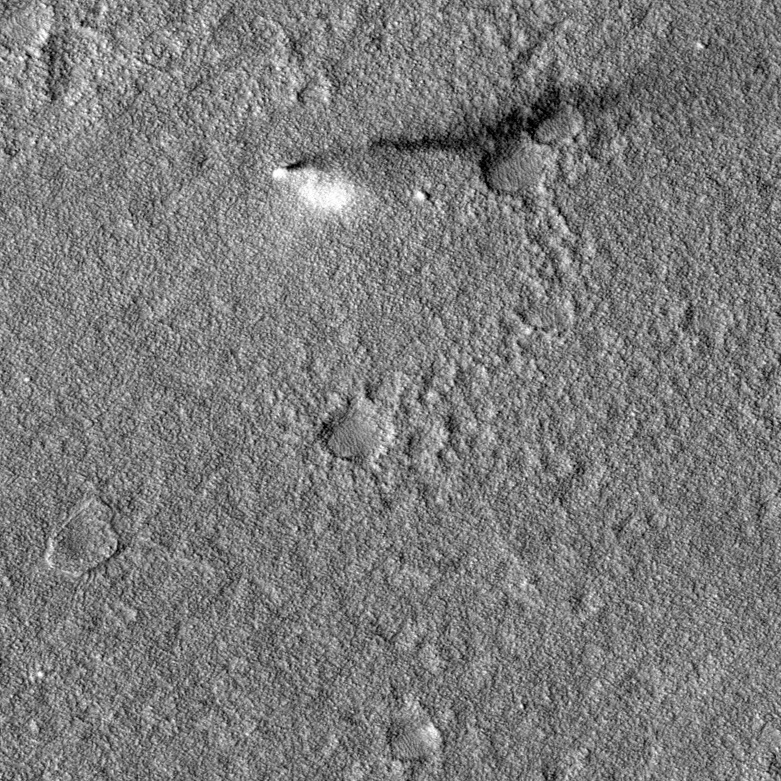dust_devil: (270, 82, 613, 214)
